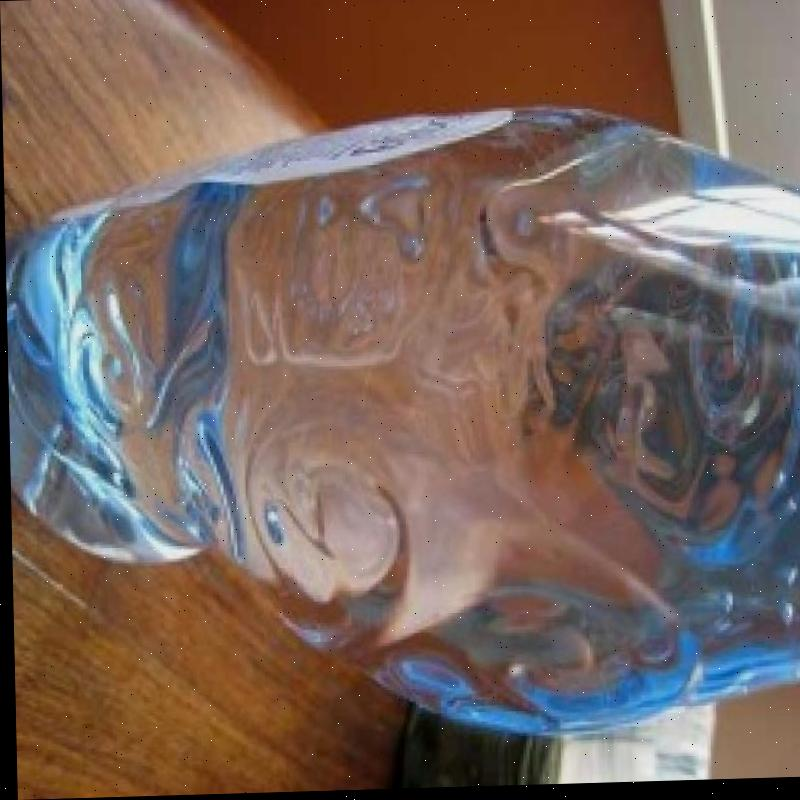botella: (2, 104, 800, 752)
